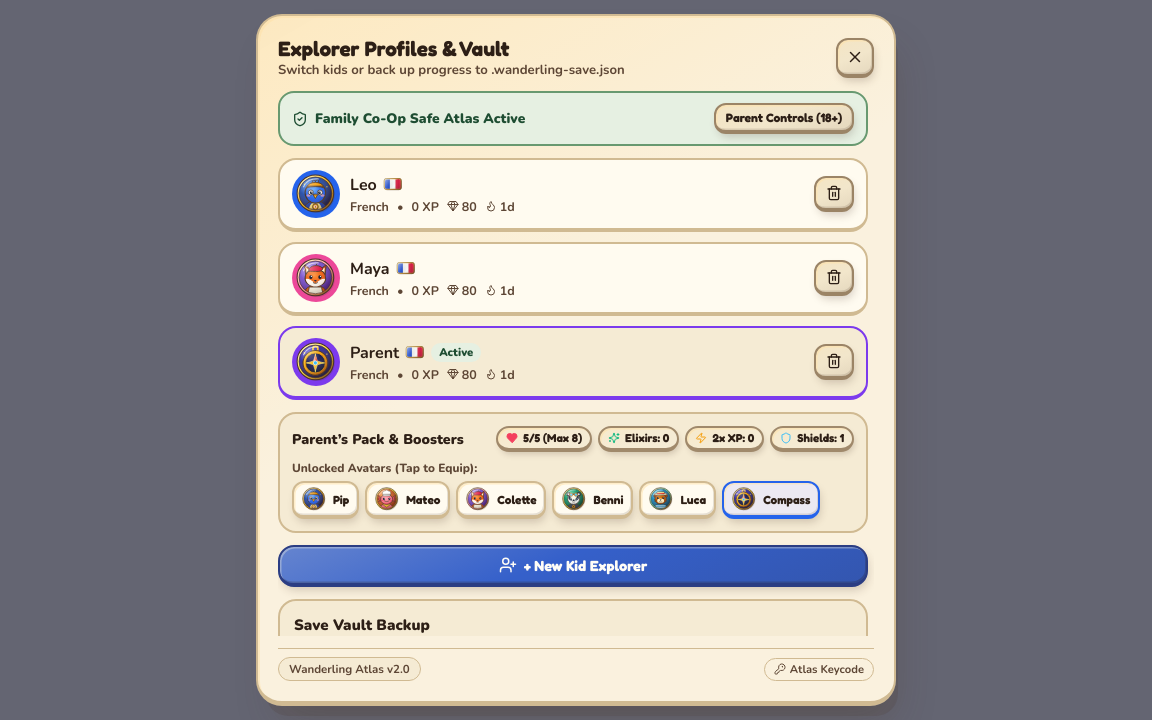
Test: Cohort H [PT-126..PT-135]: Sprint 4 Features (Operation Celestial Summit) › [PT-126] (S4-001) ProfileVaultModal + App enforce Co-Op Safe Atlas masking, suppress 7-tap/keycode/new-explorer triggers, unlock via 18+ Parent Gate, and reset
Earlier steps of the test are not shown.
Later steps or results of the test are not shown.
Click the button with test id "atlas-version-easter-egg": click(349, 669) [278, 657, 421, 681]
Click the button with test id "atlas-version-easter-egg": click(349, 669) [278, 657, 421, 681]
Click the button with test id "atlas-version-easter-egg": click(349, 669) [278, 657, 421, 681]
Click the button with test id "atlas-version-easter-egg": click(349, 669) [278, 657, 421, 681]
Click the button with test id "atlas-version-easter-egg": click(349, 669) [278, 657, 421, 681]
Click the button "Atlas Keycode": click(819, 669) [764, 658, 874, 680]
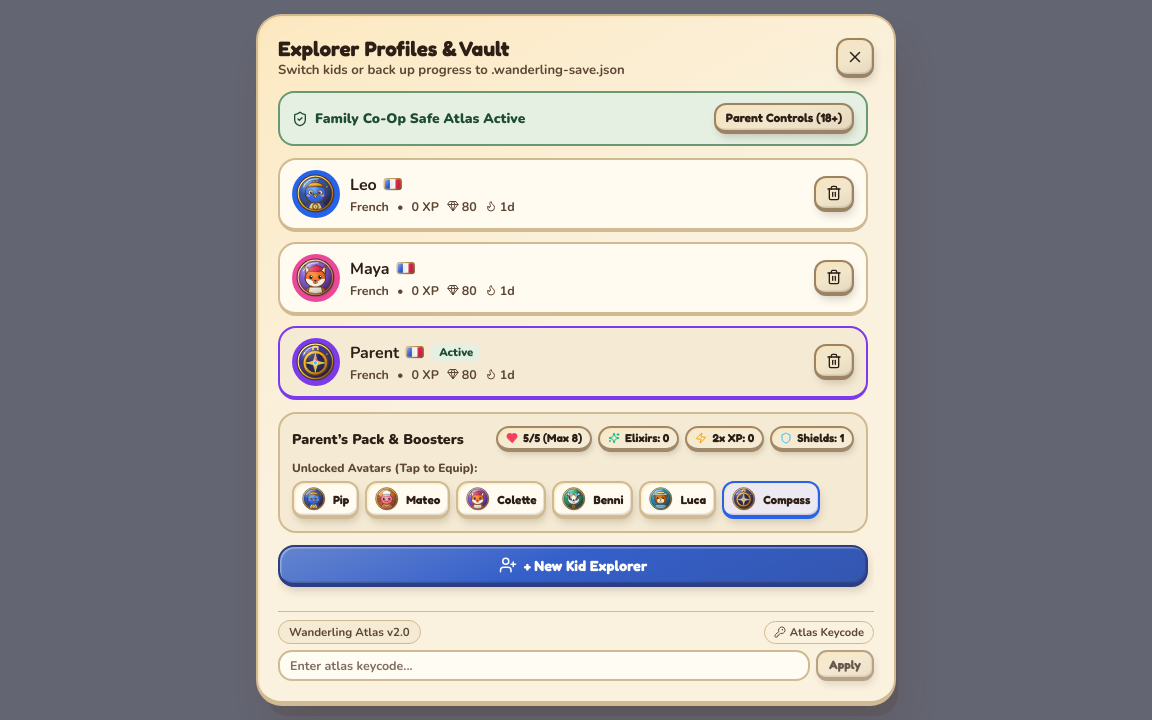
In the field labelled "atlas keycode": (544, 666) [278, 650, 810, 681], type "AFTERHOURS"
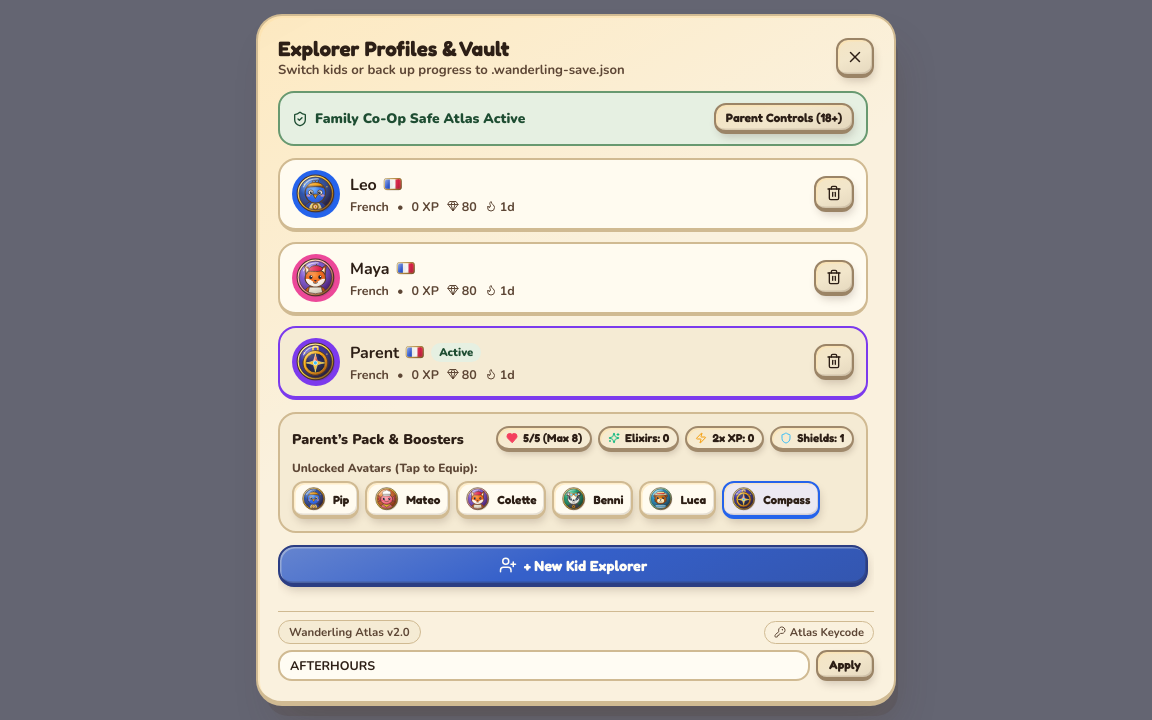
Click the button "Apply": click(845, 666) [816, 650, 874, 681]
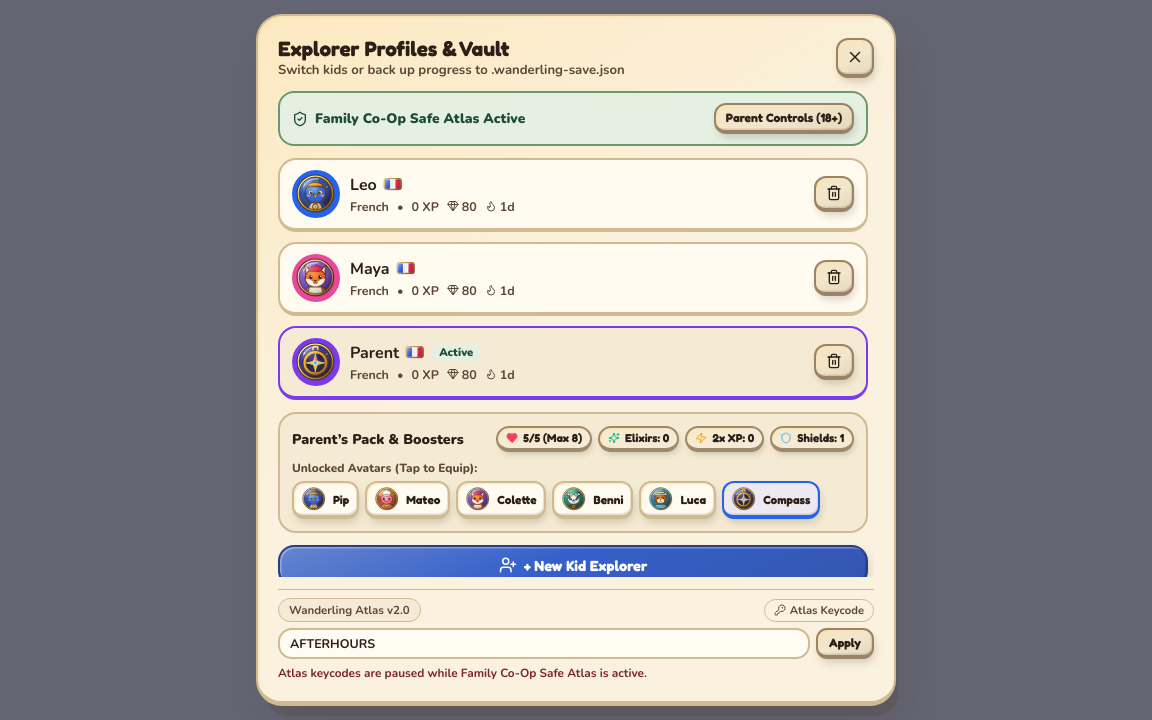
Check: the dialog named "Explorer Profiles and Save Vault" shows "Atlas keycodes are paused while Family Co-Op Safe Atlas is active.", box [278, 665, 647, 681]
